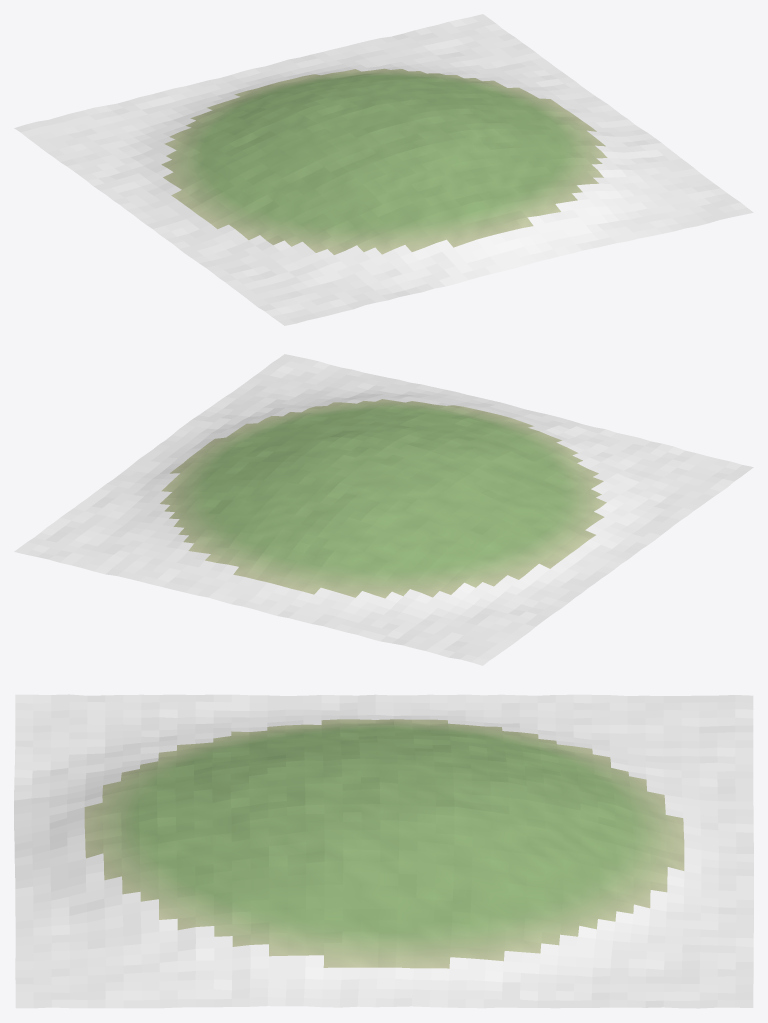
File: island_terrain.glb
The picture shows the model from 3 angles, top to bottom: view 1: azimuth 30°, elevation 25°; view 2: azimuth 150°, elevation 25°; view 3: azimuth 270°, elevation 25°; orthographic projection. The views are drawn at different scales.
Visible parts, largest first — view 1: Island_Terrain; view 2: Island_Terrain; view 3: Island_Terrain.
Boxes of the visible parts, left/top/right/bottom form: Island_Terrain: left=14, top=14, right=753, bottom=325; Island_Terrain: left=14, top=354, right=753, bottom=665; Island_Terrain: left=14, top=694, right=753, bottom=1008.
Bounding box in the file's own units: 24.04 × 2.18 × 24.07.
